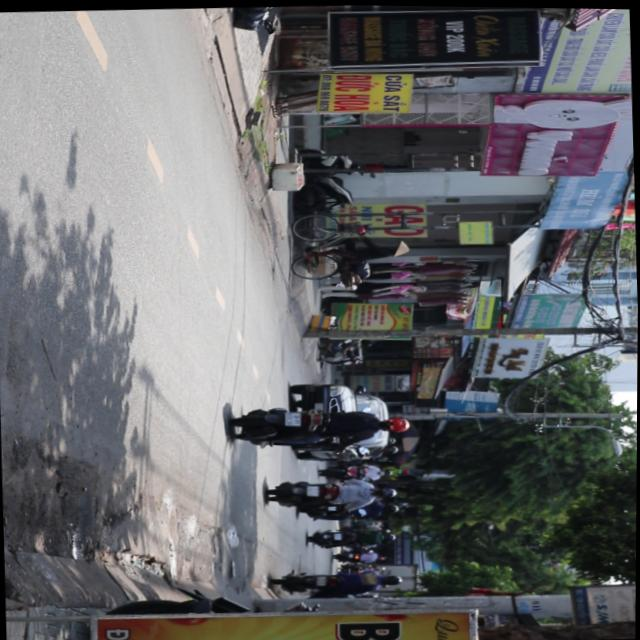helmet: (378, 414, 413, 430)
licenseplate: (231, 399, 413, 450)
nohelmet: (287, 410, 301, 424)
